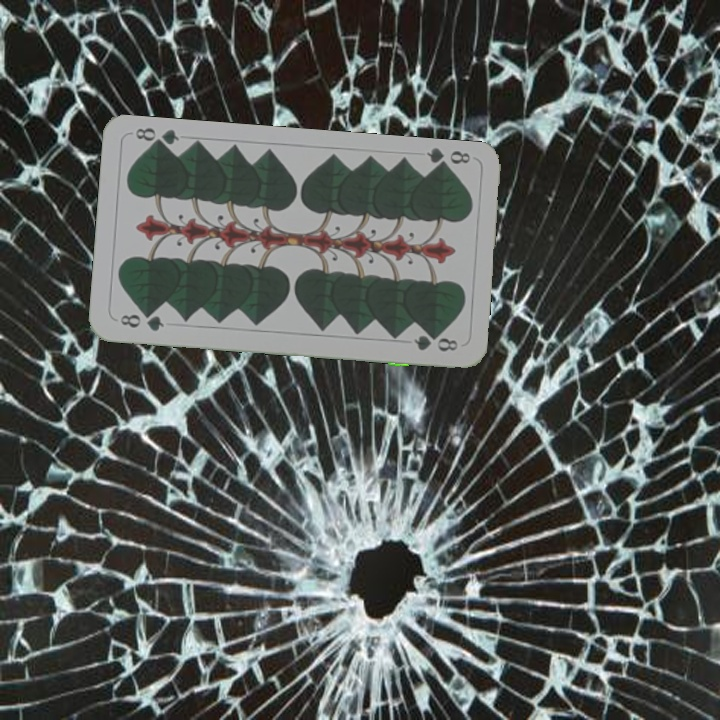G8: (422, 145, 473, 173), (116, 309, 167, 334)
